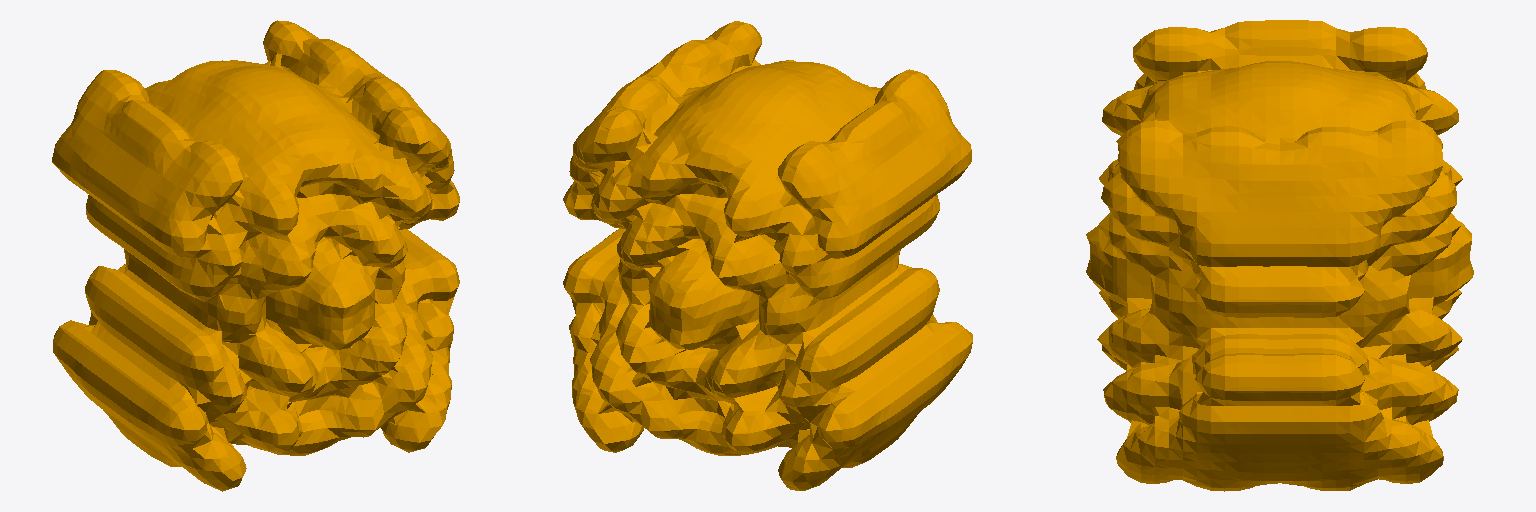
robot.urdf — F25_3:
<?xml version="1.0"?>
<robot name="F25_3">
  <link name="base_link">
    <visual>
      <geometry>
        <mesh filename="../../../../meshes/egad/train/F25_3.obj" />
      </geometry>
    </visual>
  </link>
</robot>

--- Facts derived from the render (not from the file) ---
The picture shows the robot from 3 angles, left to right: view 1: azimuth 30°, elevation 25°; view 2: azimuth 150°, elevation 25°; view 3: azimuth 270°, elevation 25°; orthographic projection.
Model F25_3 with 1 links and 0 joints (none), rooted at base_link, posed every joint at zero.
Links seen in each view (by area): view 1: base_link; view 2: base_link; view 3: base_link.
Link boxes in pixels (bbox=[...]): base_link: bbox=[52, 20, 459, 491]; base_link: bbox=[563, 21, 972, 490]; base_link: bbox=[1086, 20, 1473, 491].
Bounding box of the posed robot: 0.062 × 0.06 × 0.0635 m (x, y, z).
Meshes: 1 distinct files referenced, 1 mesh visuals loaded (1 OBJ).